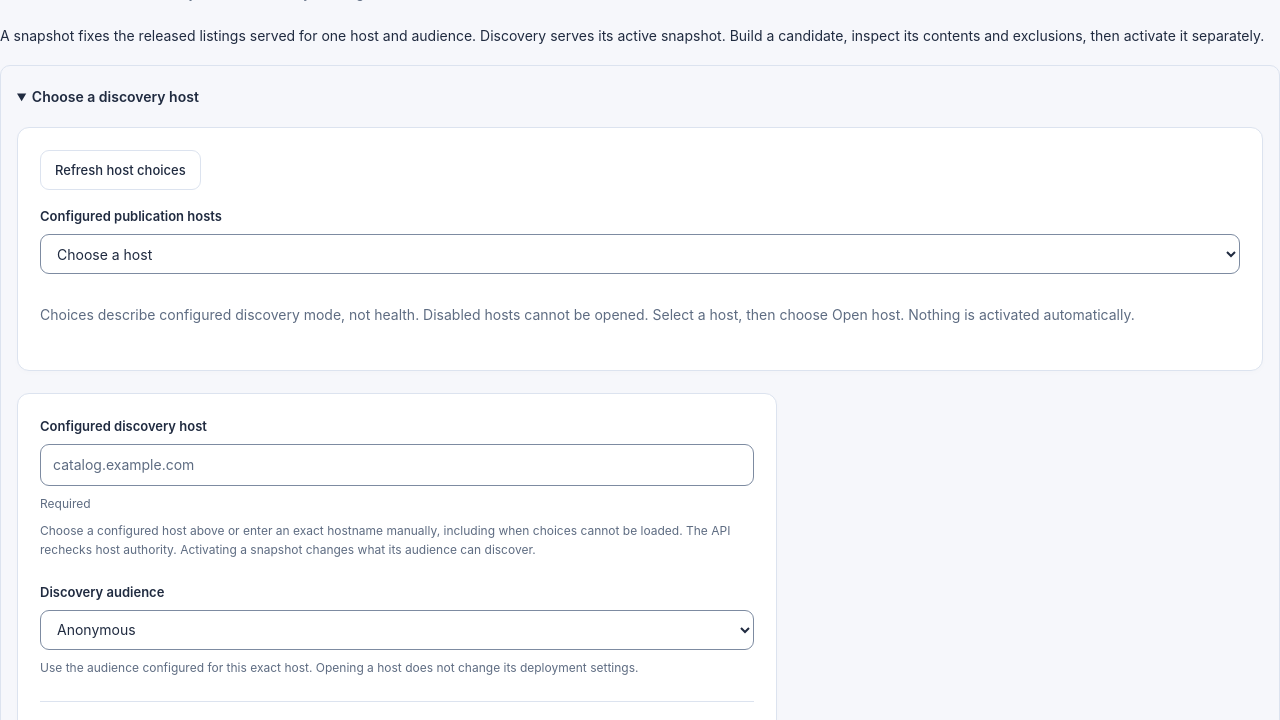
Test case: selects hosts explicitly, pages snapshots and builds an inspectable candidate
expect the text "A snapshot fixes the released listings" shows "activate it separately": met, box [0, 27, 1264, 44]
Select "catalog.example.com — anonymous" in the dropdown labelled "Configured publication hosts" at (640, 254), box [40, 234, 1240, 274]
(page scrolled)
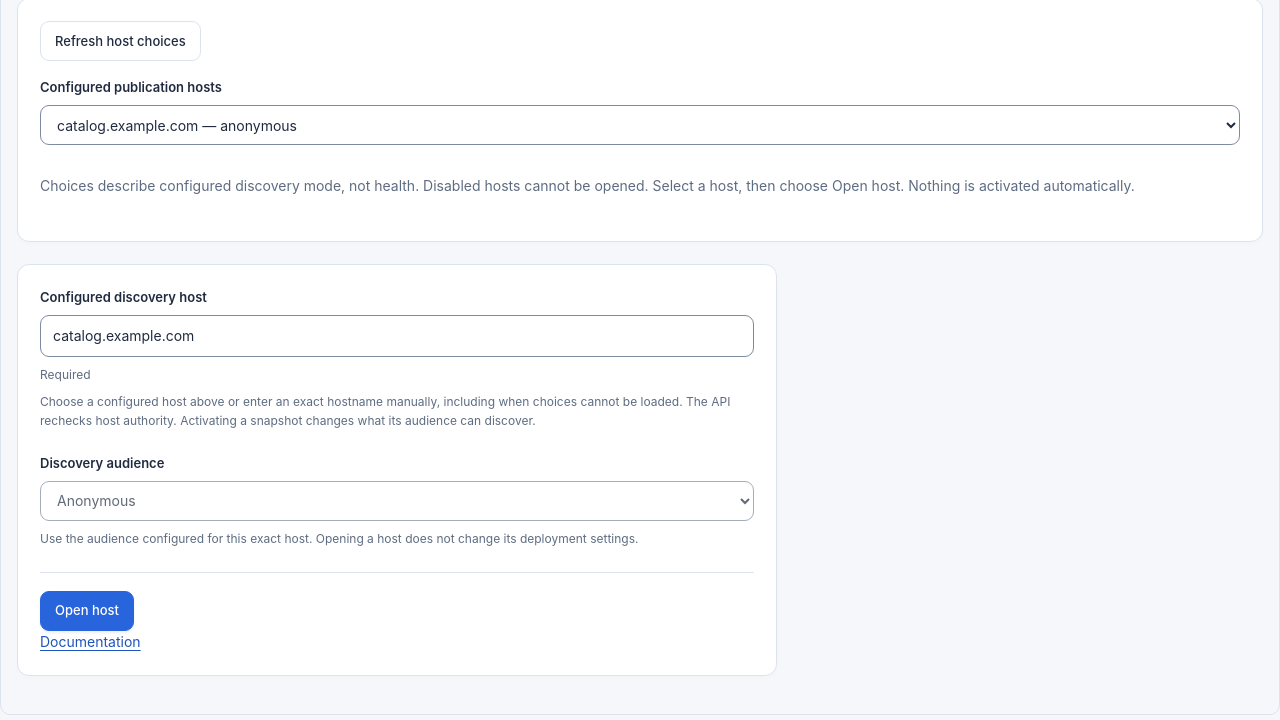
Click the button "Open host" at (87, 611), box [40, 591, 134, 631]
(page scrolled)
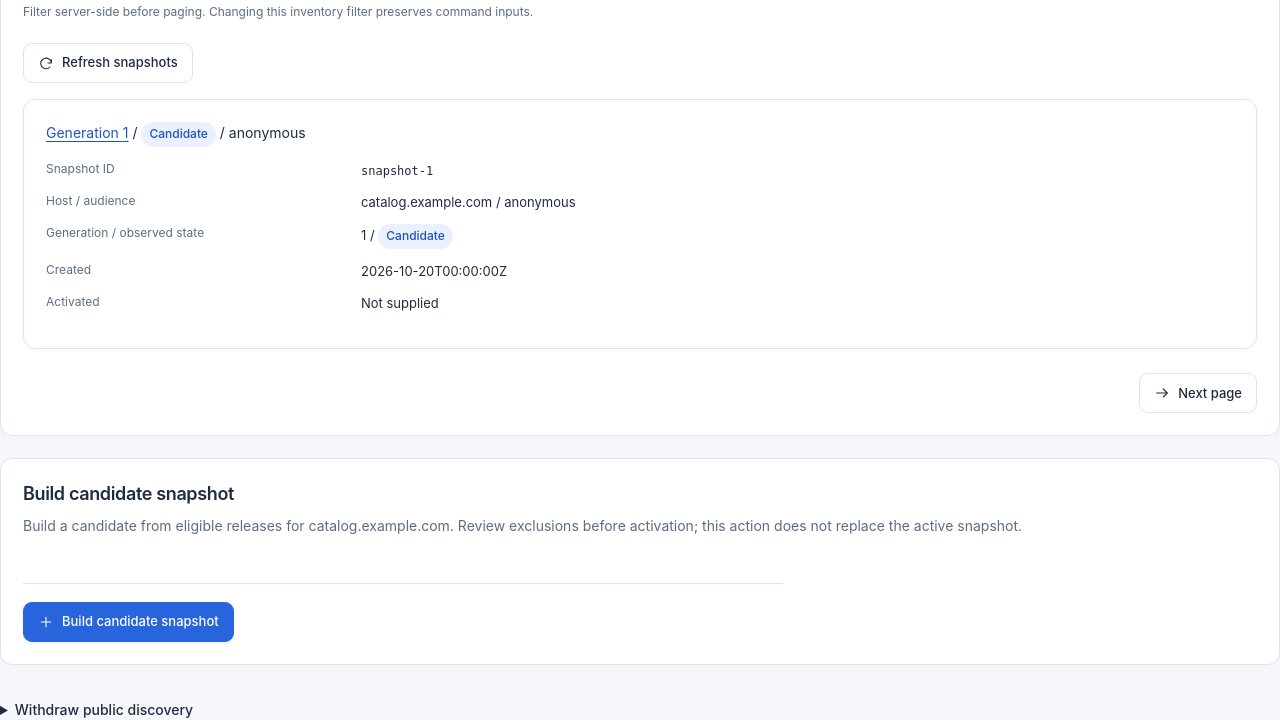
expect the link "Generation 1" has attribute href="/unit/publication/snapshot-1?host=catalog.example.com": met, box [46, 124, 128, 141]
Click the button "Next page" at (1198, 393), box [1139, 373, 1257, 413]
(page scrolled)
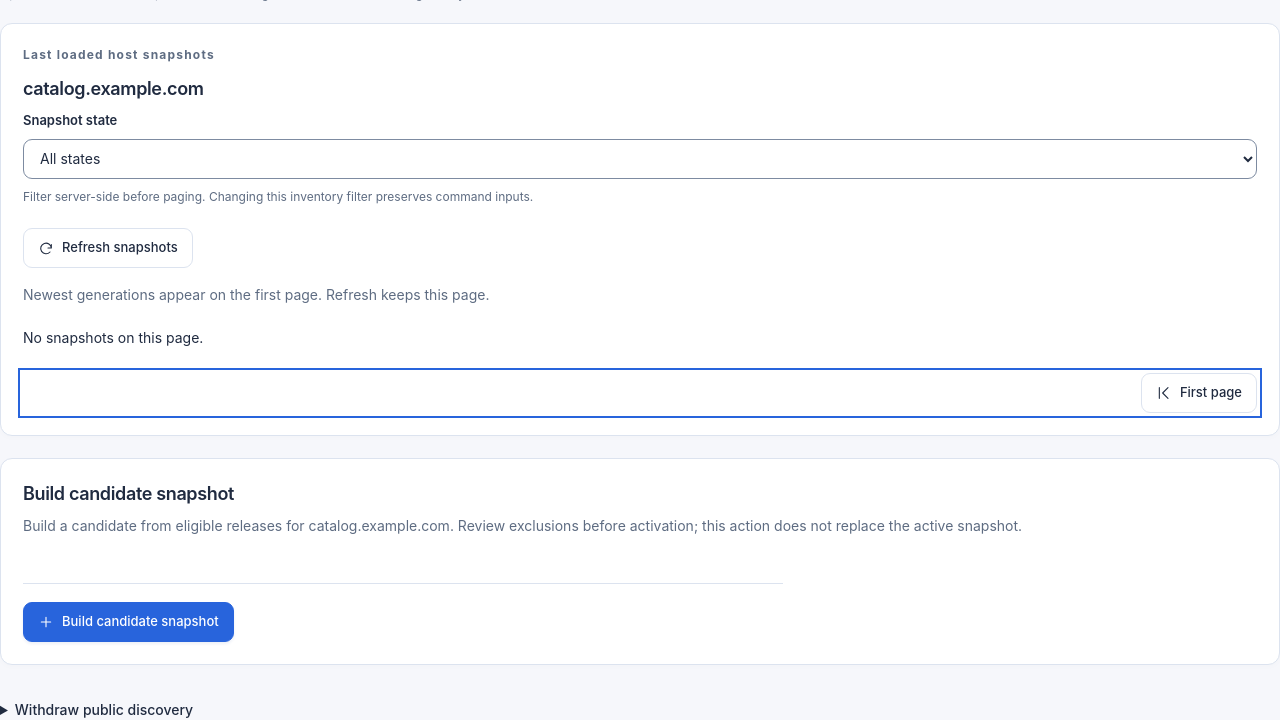
expect the text "No snapshots on this page." is shown: met, box [23, 329, 203, 346]
Click the button "Build candidate snapshot" at (128, 622), box [23, 602, 234, 642]
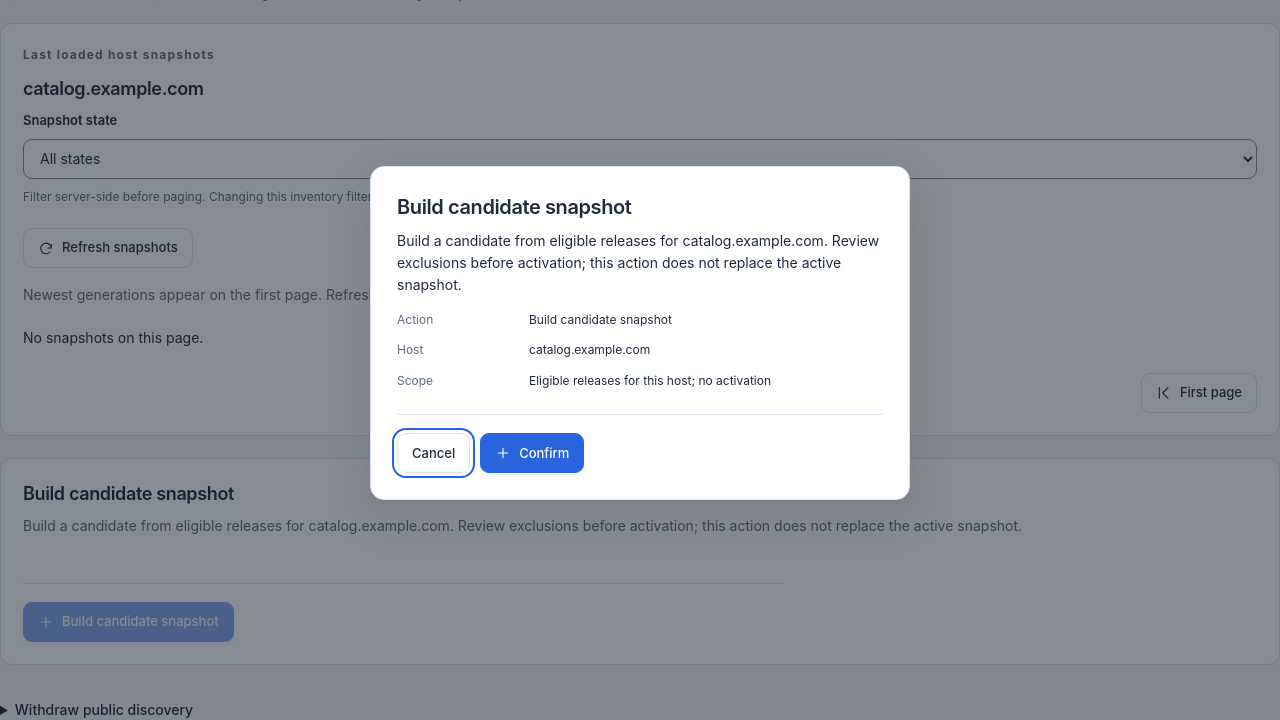
Click the button "Confirm" at (532, 454), box [480, 434, 584, 474]
(page scrolled)
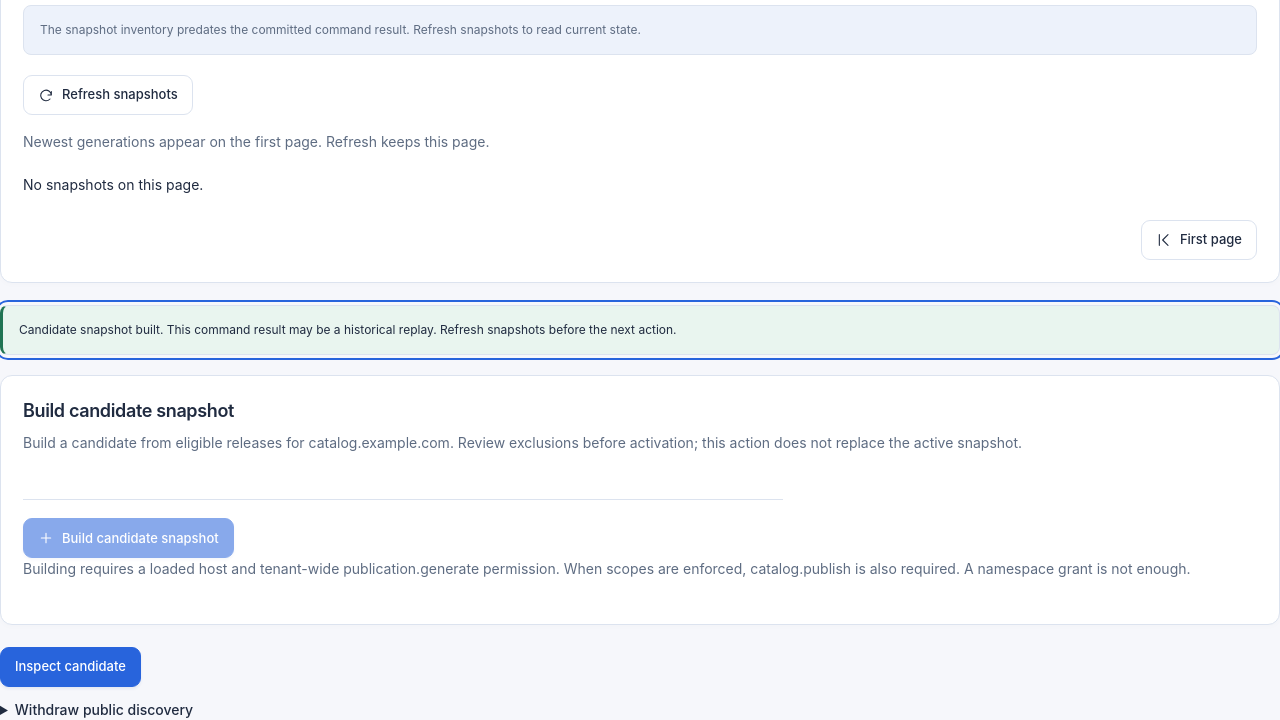
expect the link "Inspect candidate" is shown: met, box [0, 647, 141, 687]
